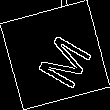M_NW: (22, 23, 88, 87)
